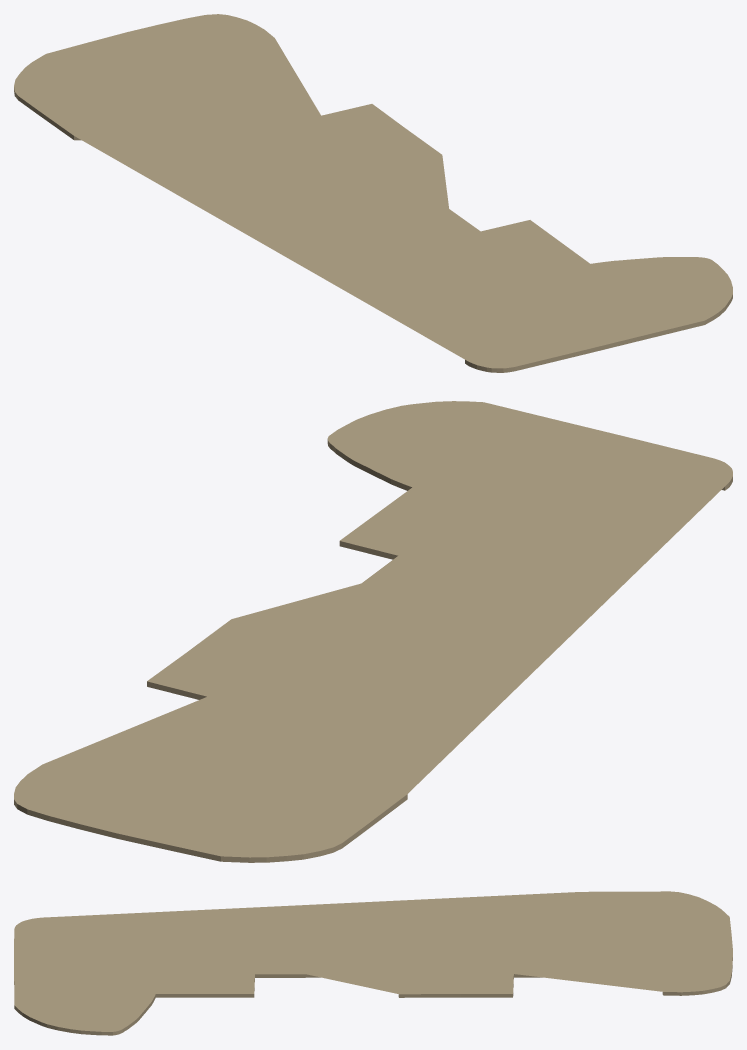
3 renders of one model, top to bottom at view 1: azimuth 30°, elevation 25°; view 2: azimuth 150°, elevation 25°; view 3: azimuth 270°, elevation 25°, orthographic. The views are drawn at different scales.
Visible parts, largest first — view 1: Cube.011; view 2: Cube.011; view 3: Cube.011.
Part boxes in pixels (x1=…): Cube.011: x1=14, y1=14, x2=732, y2=372; Cube.011: x1=14, y1=401, x2=732, y2=862; Cube.011: x1=14, y1=891, x2=732, y2=1035.
Bounding box in the file's own units: 1248 × 15 × 2701.
